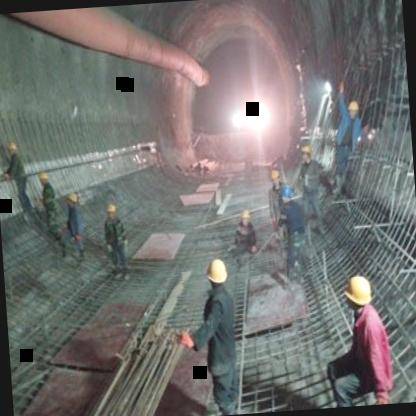helmet: (344, 272, 376, 314), (206, 254, 230, 291), (346, 97, 362, 120), (239, 206, 253, 230), (298, 143, 312, 167), (279, 185, 293, 207), (104, 201, 119, 221), (38, 167, 51, 190), (270, 166, 282, 190), (6, 137, 20, 157), (66, 191, 78, 210)
